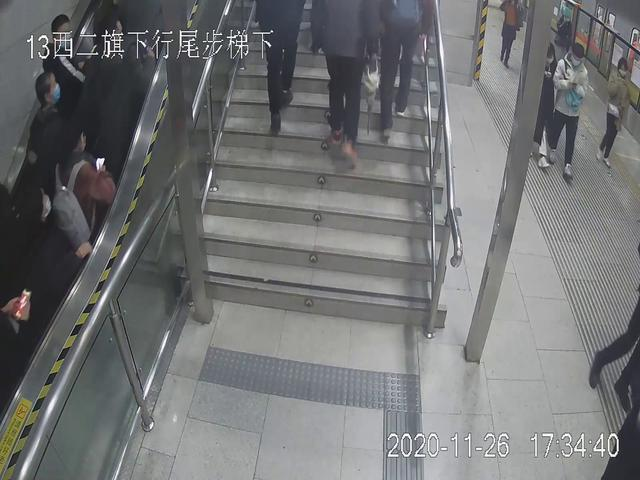person: (311, 1, 382, 162), (45, 126, 115, 285), (243, 1, 314, 140), (373, 1, 431, 135), (25, 60, 74, 198), (550, 38, 589, 182), (595, 51, 637, 168)
